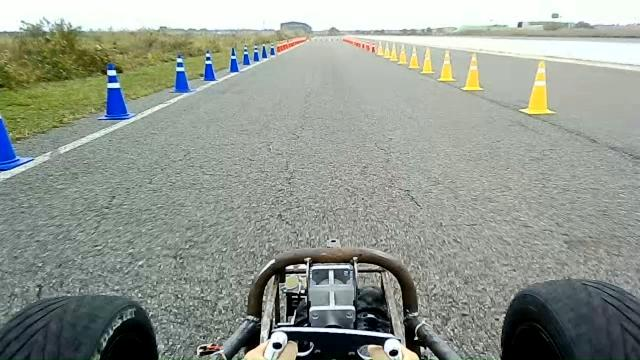blue cone: (97, 62, 135, 120), (169, 52, 193, 93), (201, 49, 218, 81), (228, 47, 239, 73), (242, 45, 251, 65), (253, 44, 260, 62), (268, 41, 276, 56), (261, 44, 268, 58)
yellow cone: (518, 59, 556, 115), (461, 52, 483, 91), (437, 49, 456, 82), (420, 47, 434, 74), (408, 45, 420, 69), (397, 45, 408, 65), (389, 42, 398, 62), (376, 40, 384, 56), (383, 42, 390, 59)
